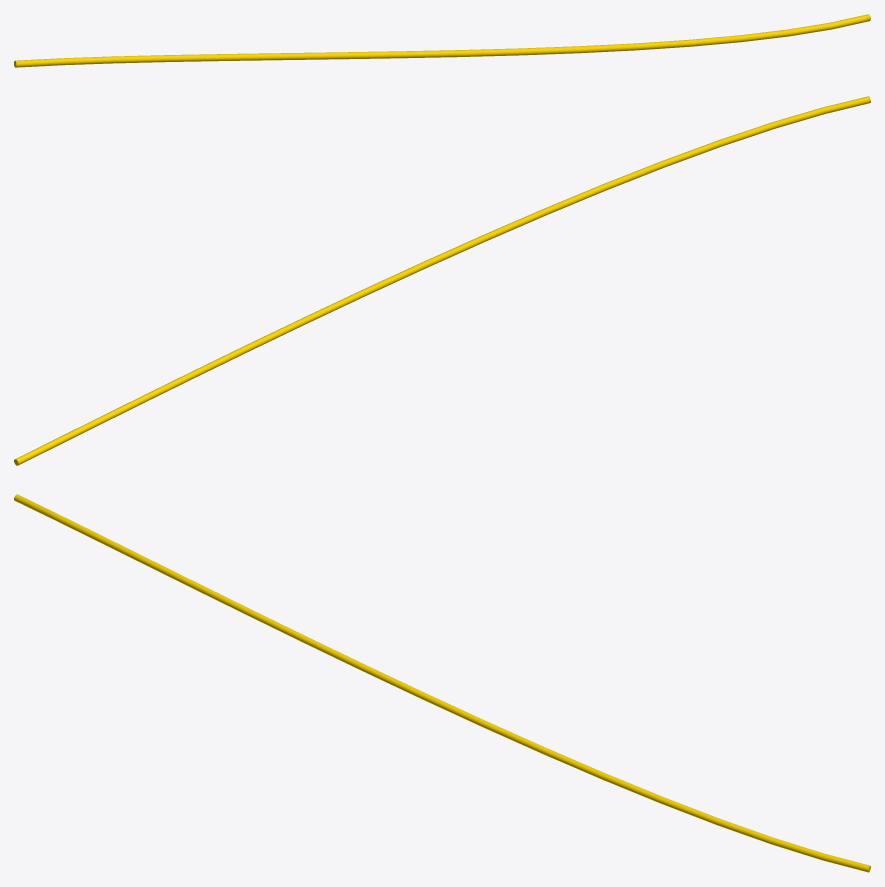
Rendered from Event_421278790_track_39.fbx.
The picture shows the model from 3 angles, top to bottom: view 1: azimuth 30°, elevation 25°; view 2: azimuth 210°, elevation 25°; view 3: azimuth 330°, elevation 25°; orthographic projection.
Parts seen in each view (by area): view 1: Model; view 2: Model; view 3: Model.
Boxes of the visible parts, bbox=[...] form: Model: bbox=[14, 14, 870, 67]; Model: bbox=[14, 96, 870, 465]; Model: bbox=[14, 494, 870, 872].
Size of the model in its own units: 5.56 by 1.03 by 0.2782.
